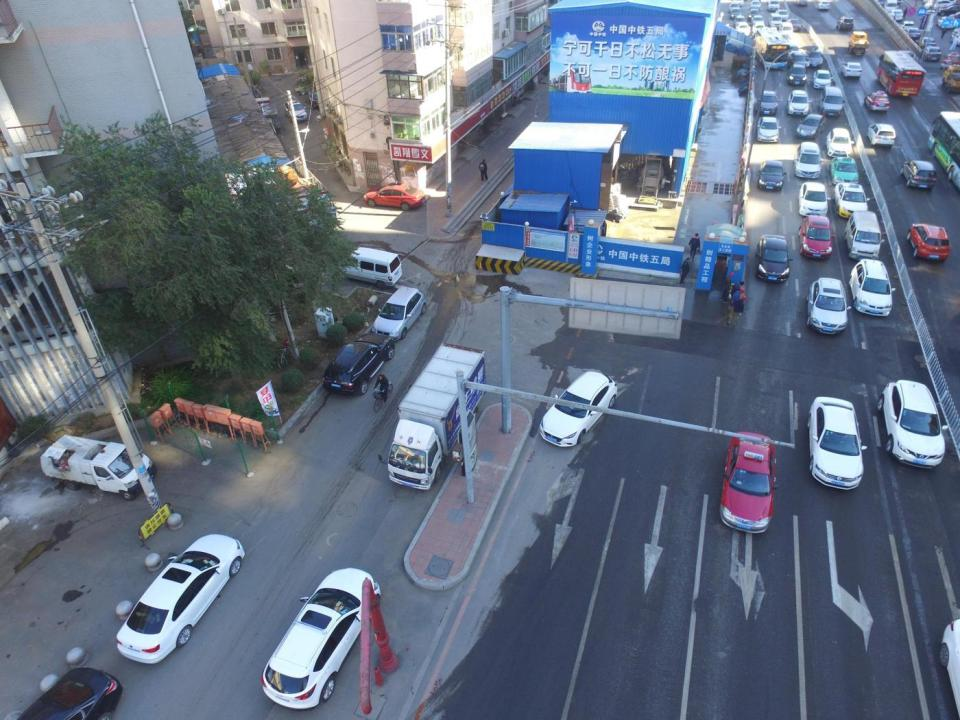bus: (876, 47, 928, 100), (756, 27, 792, 70)
car: (114, 532, 246, 665), (261, 567, 383, 710), (536, 370, 619, 447), (879, 378, 948, 470), (803, 396, 865, 491), (726, 429, 774, 533), (322, 330, 399, 393), (846, 258, 897, 317), (806, 276, 852, 336), (377, 284, 425, 340), (363, 181, 428, 213), (907, 221, 953, 264), (754, 231, 792, 282), (797, 213, 836, 260), (901, 154, 945, 194), (831, 182, 871, 219), (795, 179, 832, 218), (793, 139, 825, 176), (828, 154, 860, 187), (824, 128, 854, 159), (795, 111, 827, 140), (758, 159, 787, 189), (868, 122, 898, 149), (786, 88, 812, 118), (284, 97, 309, 126), (756, 86, 780, 116), (756, 116, 781, 144), (864, 89, 893, 113), (785, 61, 808, 85), (806, 45, 826, 70), (789, 48, 811, 70), (840, 59, 862, 80), (812, 69, 834, 89), (940, 48, 960, 70), (923, 43, 943, 64), (305, 91, 327, 110), (915, 36, 937, 53), (834, 14, 856, 30), (938, 4, 960, 18), (938, 2, 960, 16), (938, 15, 956, 32), (925, 0, 953, 10), (736, 20, 751, 36), (890, 7, 906, 22), (780, 20, 794, 37), (905, 27, 922, 41), (729, 7, 743, 20), (788, 16, 800, 31), (900, 21, 916, 32), (775, 7, 788, 20), (732, 14, 746, 26), (747, 0, 763, 10), (751, 13, 764, 25), (817, 1, 831, 12), (728, 1, 740, 13), (766, 0, 779, 11), (753, 22, 767, 32), (749, 7, 760, 18), (732, 0, 745, 7)
truck: (382, 339, 490, 488), (39, 432, 157, 500), (846, 29, 872, 57), (942, 64, 959, 95)
van: (336, 243, 405, 284), (842, 209, 883, 261), (820, 86, 845, 118), (769, 12, 783, 28), (884, 0, 900, 14)
